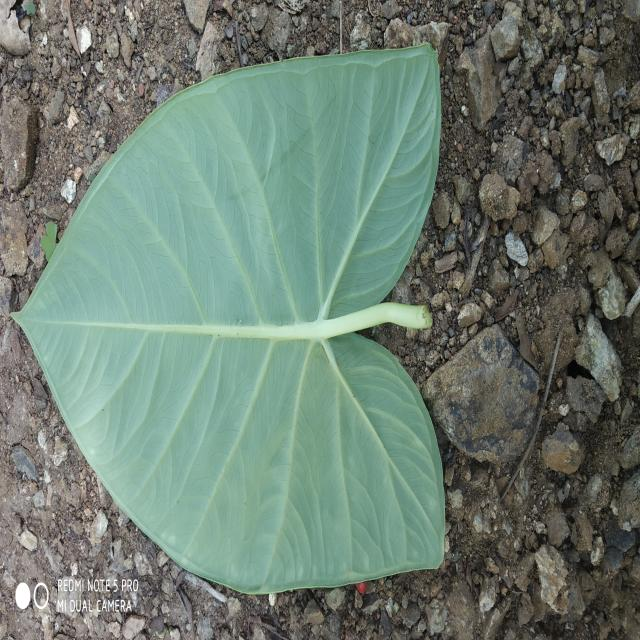taro: (16, 47, 444, 593)
